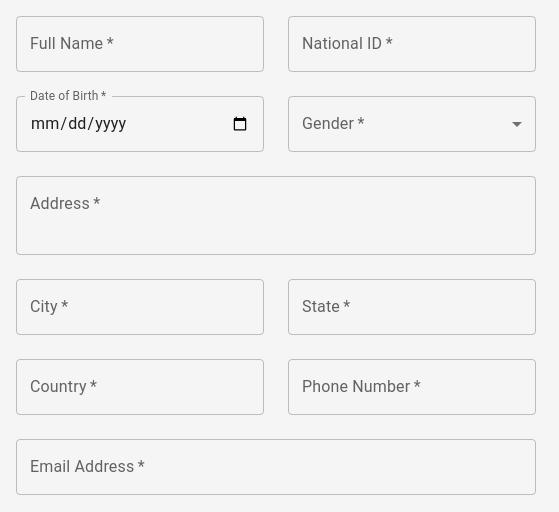
Test: Step1PersonalInfo Component › renders gender dropdown with all options
Click the dropdown named "gender" at {"x": 412, "y": 124}, box 288,96 -> 536,152
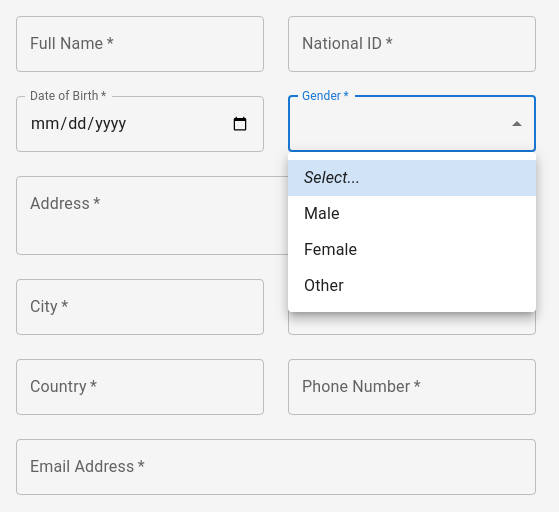
Expected: the option "Male" is shown, 304,204 -> 340,223
Expected: the option "Female" is shown, 304,240 -> 357,259
Expected: the option "Other" is shown, 304,276 -> 344,295
